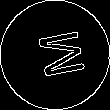M_W: (26, 28, 84, 82)
